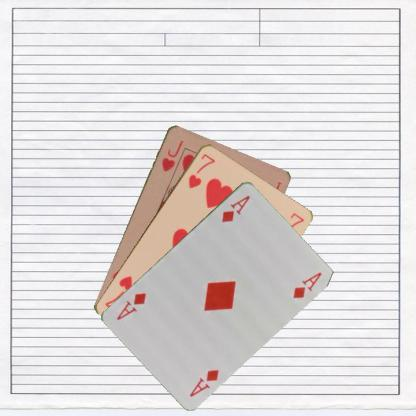7h: (186, 151, 216, 190)
Ad: (187, 366, 220, 398), (218, 192, 252, 223)
Jh: (159, 136, 185, 173)
